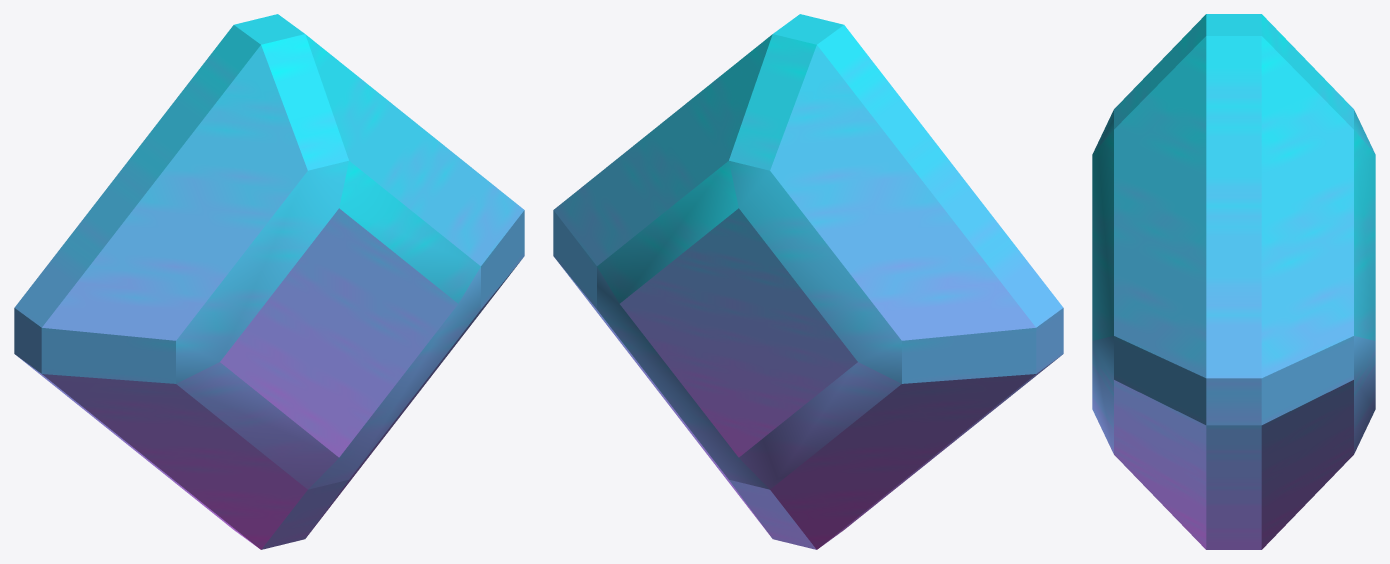
The model's file is Gem_Medium.gltf.
3 renders of one model, left to right at view 1: azimuth 30°, elevation 25°; view 2: azimuth 150°, elevation 25°; view 3: azimuth 270°, elevation 25°, orthographic.
Parts seen in each view (by area): view 1: Gem_Medium; view 2: Gem_Medium; view 3: Gem_Medium.
Boxes of the visible parts, x1,y1,x2,y2 form: Gem_Medium: [14, 14, 524, 549]; Gem_Medium: [553, 14, 1063, 549]; Gem_Medium: [1092, 14, 1375, 549].
Bounding box in the file's own units: 0.45 × 0.45 × 0.225.
Materials: 1 (1 with a texture image).
